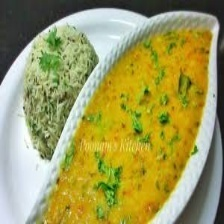dal: (85, 11, 219, 224)
